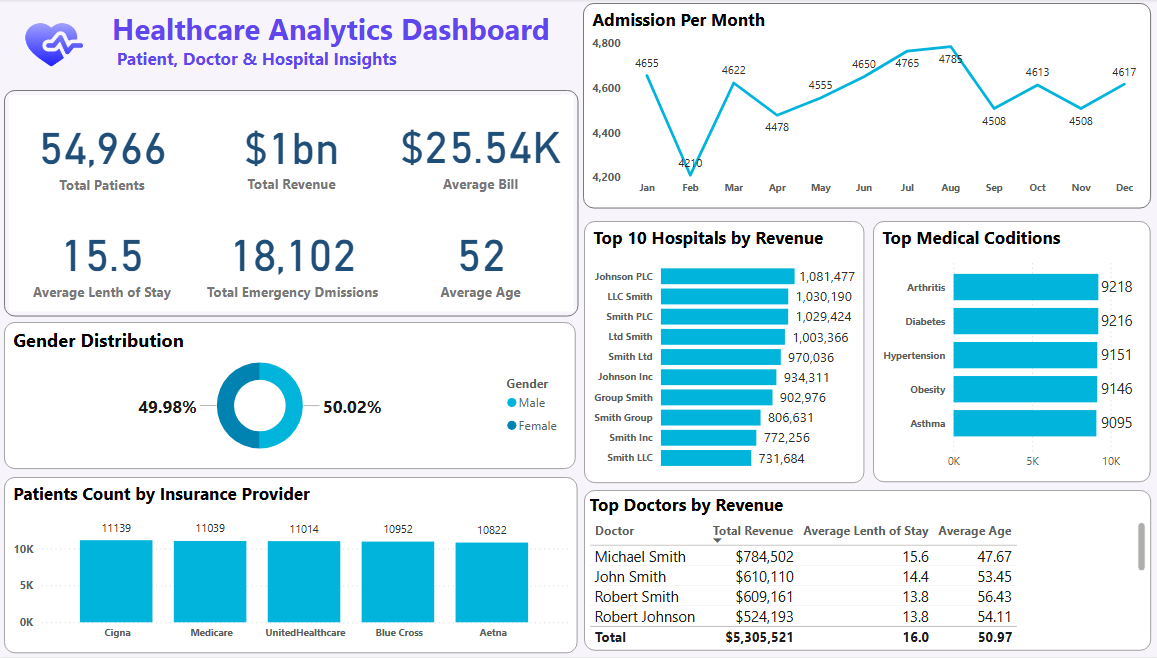

What the dashboard file says about the page in this screenshot:
{"tool":"powerbi","page":{"name":"Page 1","canvas":[1280,720],"ordinal":0},"visuals":[{"type":"shape","box":[7.7,99.8,628.7,247.9],"z":0,"group":"g1"},{"type":"lineChart","title":"Admission Per Month","fields":{"Y":["Health_Care.Name"],"Category":["Health_Care.Month Short"]},"box":[641.5,4.6,621.8,225],"z":0},{"type":"card","fields":{"Values":["Measure.Total Patients"]},"box":[20.1,116.7,190.4,104.8],"z":1000,"group":"g1"},{"type":"donutChart","title":"Gender Distribution","fields":{"Category":["Health_Care.Gender"],"Y":["Health_Care.Hospital"]},"box":[7.7,353.7,626.3,161],"z":1000},{"type":"card","fields":{"Values":["Measure.Average Bill"]},"box":[430.2,115.6,198.3,104.8],"z":2000,"group":"g1"},{"type":"barChart","title":"Top 10 Hospitals by Revenue","fields":{"Category":["Health_Care.Hospital"],"Y":["Health_Care.Billing Amount"]},"box":[643,243.2,307.1,287.3],"z":2000},{"type":"card","fields":{"Values":["Measure.Total Revenue"]},"box":[221.8,116.7,200.6,103.7],"z":3000,"group":"g1"},{"type":"clusteredBarChart","title":"Top Medical Coditions","fields":{"Category":["Health_Care.Medical Condition"],"Y":["Health_Care.Name"]},"box":[959.2,243.2,304,285.8],"z":3000},{"type":"card","fields":{"Values":["Measure.Average Lenth of Stay"]},"box":[20.1,233.9,190.4,104.8],"z":4000,"group":"g1"},{"type":"tableEx","title":"Top Doctors by Revenue","fields":{"Values":["Health_Care.Doctor","Measure.Total Revenue","select","Measure.Average Lenth of Stay","Measure.Average Age"]},"box":[642.7,537.6,620.8,176.3],"z":4000},{"type":"card","fields":{"Values":["Measure.Total Emergency Dmissions"]},"box":[224,233.9,198.3,104.8],"z":5000,"group":"g1"},{"type":"columnChart","title":"Patients Count by Insurance Provider","fields":{"Y":["Health_Care.Name"],"Category":["Health_Care.Insurance Provider"]},"box":[7.6,522.9,627.8,193.1],"z":5000},{"type":"textbox","box":[7.6,4.6,627.8,88.2],"z":6000},{"type":"card","fields":{"Values":["Measure.Average Age"]},"box":[430.2,233.9,198.3,104.8],"z":6000,"group":"g1"},{"type":"image","box":[7.6,4.6,109.5,88.2],"z":7000},{"type":"group","id":"g1","title":"Group 1","box":[7.7,99.8,628.7,247.9],"z":8000}]}

Visuals, with their boxes in screenshot pixels (x1, y1, x2, y2), scaled from the page's 1280x720 canvas onto the 1157x658 screenshot:
shape: 7,91,575,318
"Admission Per Month" lineChart: 580,4,1142,210
card - Measure.Total Patients: 18,107,190,202
"Gender Distribution" donutChart: 7,323,573,470
card - Measure.Average Bill: 389,106,568,201
"Top 10 Hospitals by Revenue" barChart: 581,222,859,485
card - Measure.Total Revenue: 200,107,382,201
"Top Medical Coditions" clusteredBarChart: 867,222,1142,483
card - Measure.Average Lenth of Stay: 18,214,190,310
"Top Doctors by Revenue" tableEx: 581,491,1142,652
card - Measure.Total Emergency Dmissions: 202,214,382,310
"Patients Count by Insurance Provider" columnChart: 7,478,574,654
textbox: 7,4,574,85
card - Measure.Average Age: 389,214,568,310
image: 7,4,106,85
"Group 1" group: 7,91,575,318
